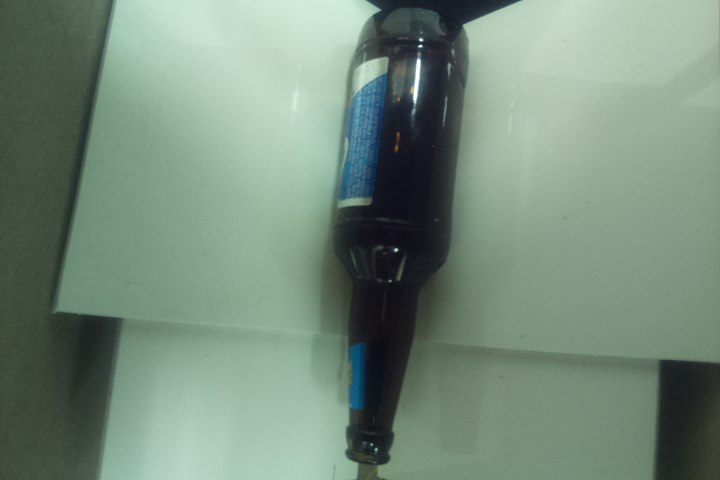makju: (328, 1, 471, 467)
